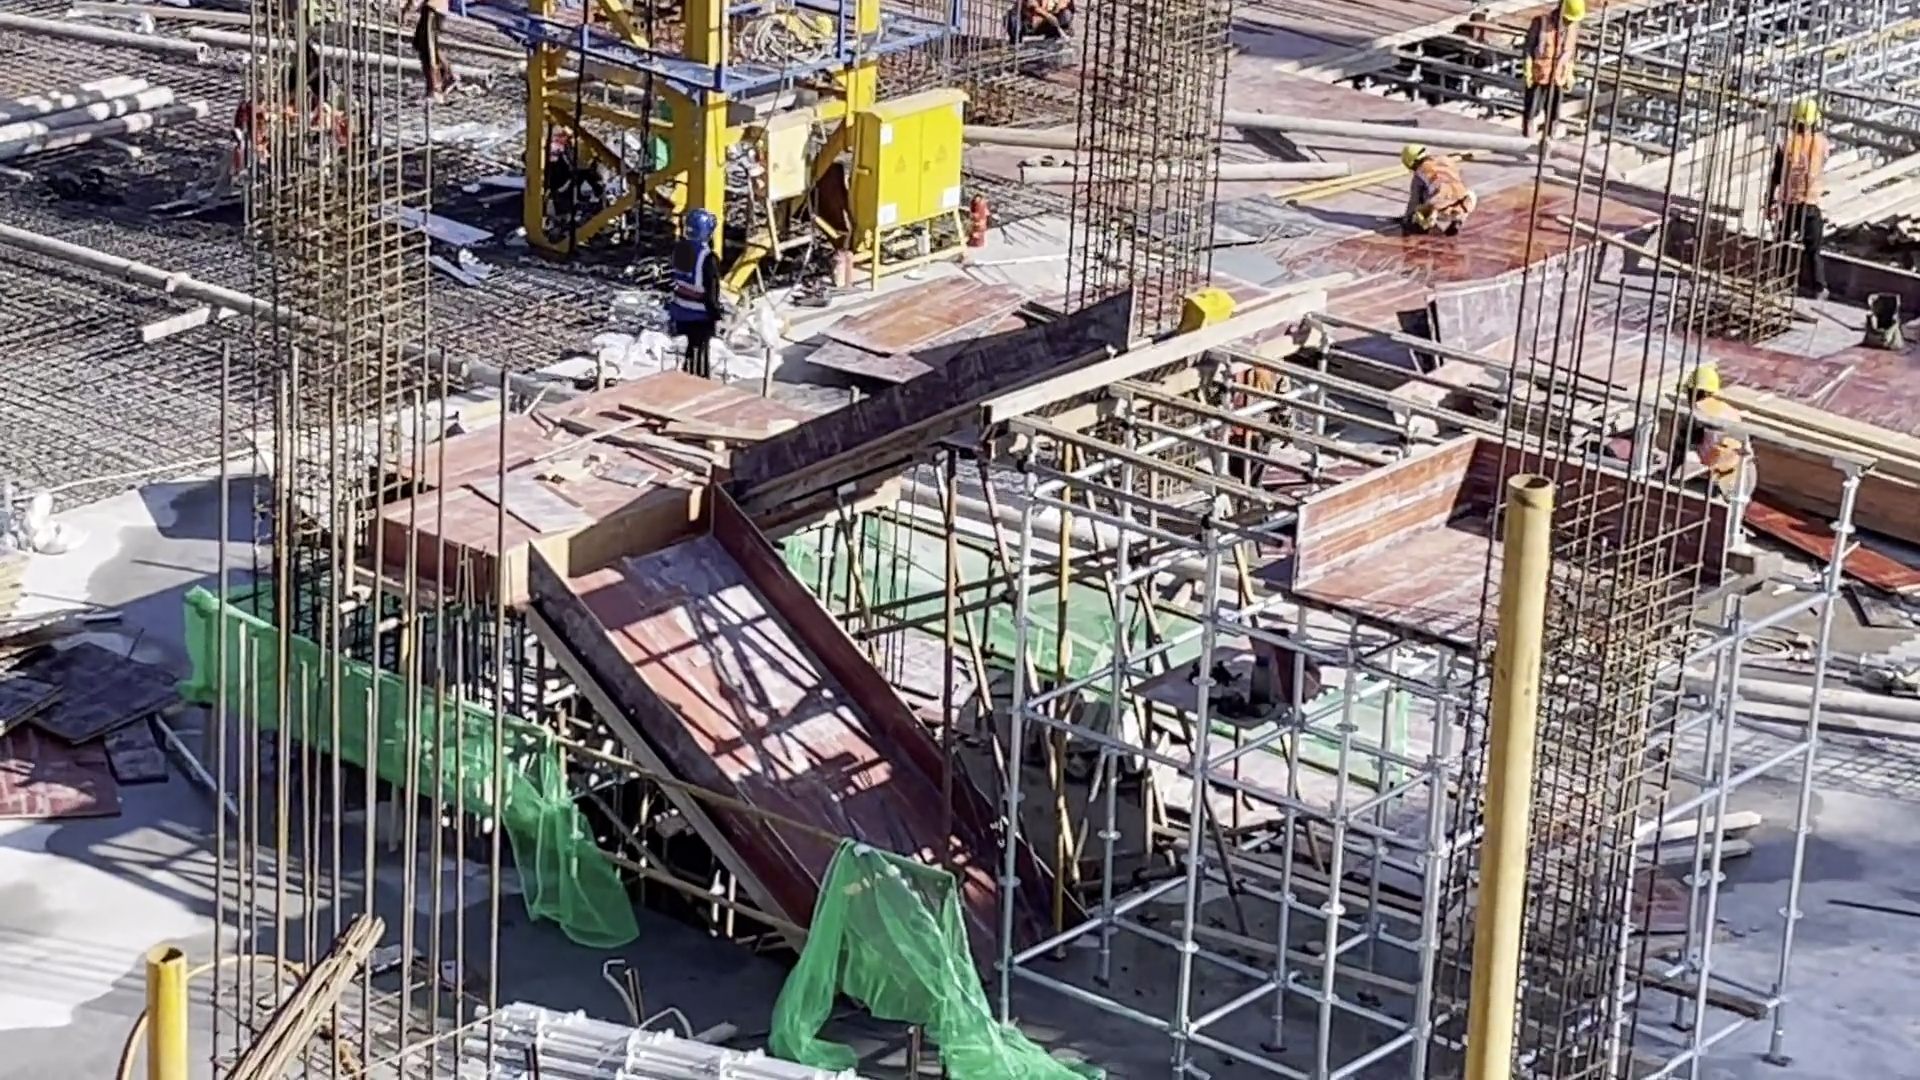board: (1, 625, 189, 820)
ebox: (846, 78, 978, 275), (748, 109, 825, 271), (1174, 284, 1238, 332)
helmet: (1679, 361, 1722, 395), (1785, 94, 1828, 128), (670, 209, 718, 238), (1401, 138, 1434, 174), (1549, 1, 1587, 26)
person: (1670, 358, 1756, 536), (1769, 89, 1839, 301), (656, 209, 733, 389), (1519, 1, 1589, 148), (1395, 137, 1471, 236), (406, 1, 456, 108), (1007, 4, 1085, 61)
scaffold: (452, 998, 955, 1080)
vest: (658, 247, 722, 337), (1687, 396, 1746, 492), (1525, 32, 1583, 114), (1780, 131, 1822, 210), (1418, 157, 1467, 224)
wood: (1749, 404, 1920, 533)
